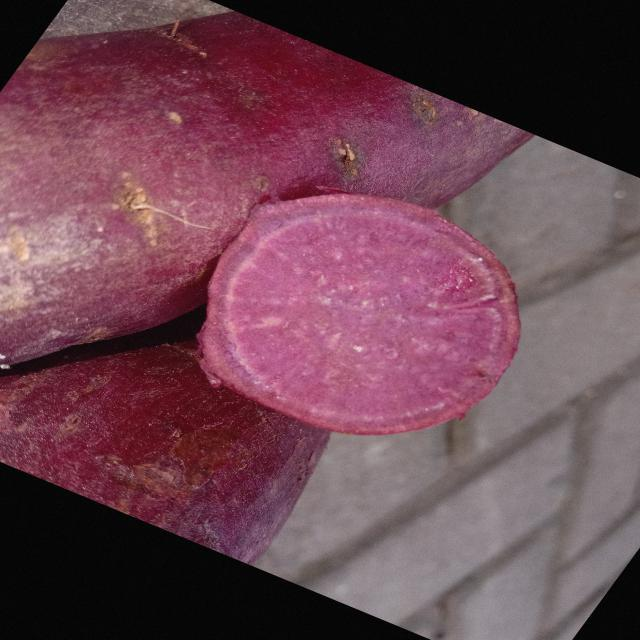Healthy Sweet Potato: (200, 195, 520, 435)
